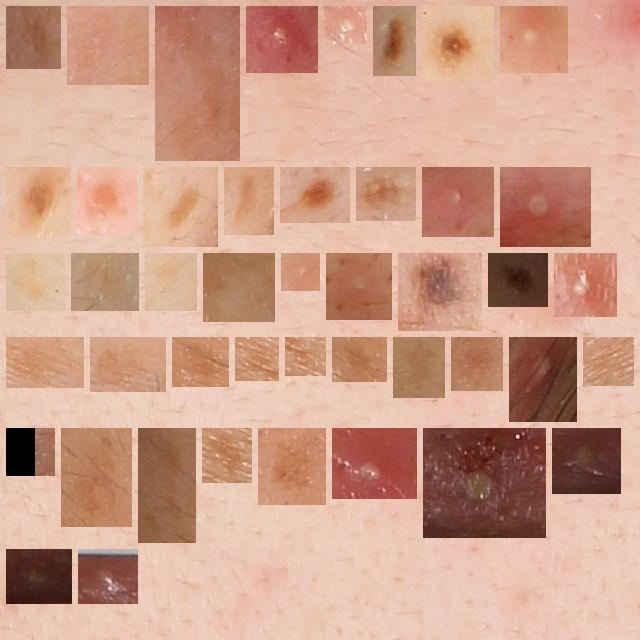hypertrophic_scar: (211, 261, 267, 314)
melasma: (163, 14, 232, 153), (69, 436, 124, 519), (75, 14, 141, 77), (146, 436, 188, 535), (151, 175, 210, 239), (266, 436, 318, 497), (14, 175, 63, 229), (98, 345, 158, 384), (85, 175, 129, 227), (79, 261, 131, 303), (14, 345, 76, 380), (288, 175, 342, 215), (14, 14, 53, 61), (14, 261, 57, 303), (232, 175, 266, 227), (364, 175, 408, 213), (401, 345, 437, 390), (153, 261, 189, 303), (180, 345, 221, 379), (459, 345, 495, 383), (210, 436, 244, 475), (591, 345, 626, 378), (340, 345, 379, 374), (14, 436, 47, 468), (243, 345, 271, 373), (293, 345, 318, 368)
nevus: (406, 261, 474, 323), (430, 14, 486, 73), (496, 261, 540, 299), (381, 14, 408, 68)
pustule: (431, 436, 538, 530), (508, 175, 583, 239), (340, 436, 409, 491), (517, 345, 569, 414), (430, 175, 486, 229), (254, 14, 310, 65), (508, 14, 560, 65), (560, 436, 613, 486), (334, 261, 384, 312), (562, 261, 609, 309), (14, 557, 64, 596), (86, 557, 130, 596), (332, 14, 359, 36), (289, 261, 312, 283)
